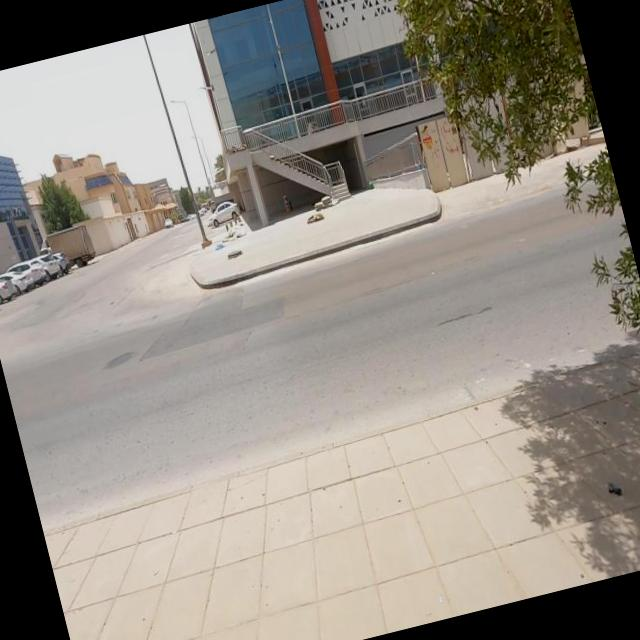debris: (274, 142, 379, 260), (198, 174, 276, 286), (279, 174, 353, 270), (187, 204, 251, 286)
